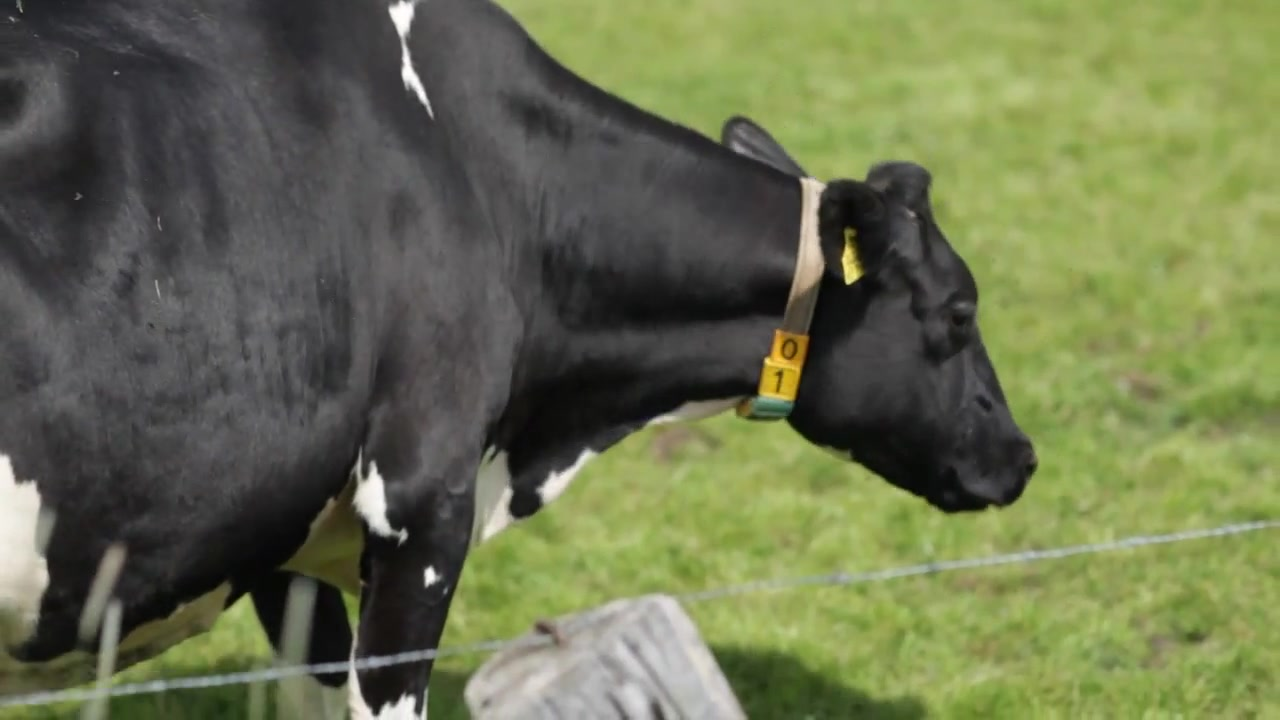cow: (1, 1, 1037, 720)
